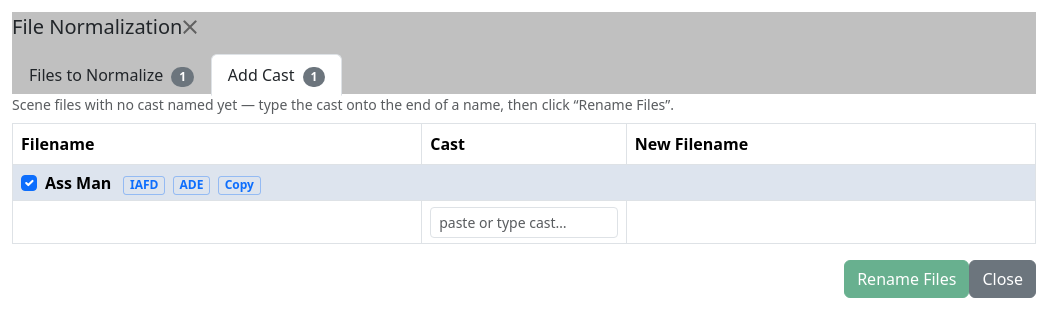
Test: FileNormalizationModalComponent › group dismissal › unchecking the header checkbox removes the group from the DOM
The image size is (1048, 315).
Click the checkbox with class "group-dismiss": (29, 183) x1=21 y1=175 x2=37 y2=191
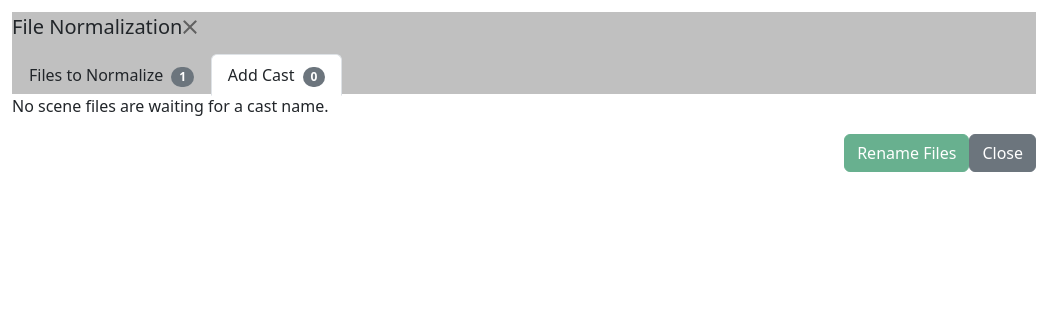
Now the row with class "cast-group-row" is gone
Now the text "No scene files are waiting for a cast name." is shown, box x1=12 y1=95 x2=328 y2=117
